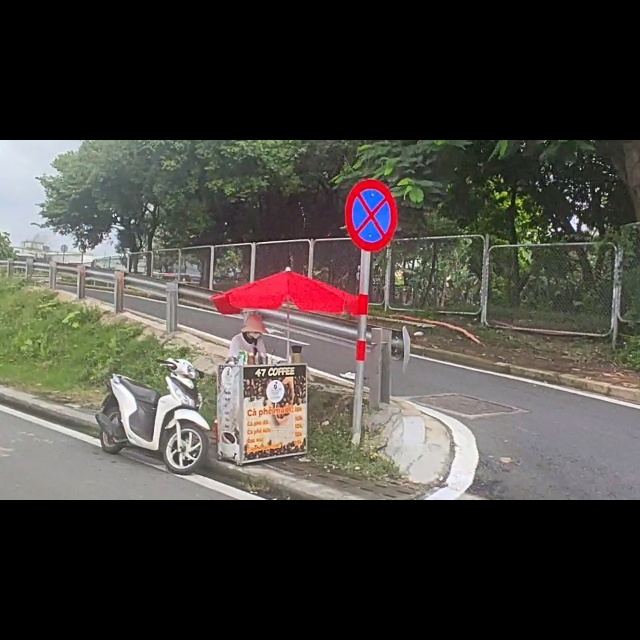bien_cam: (343, 68, 399, 204)
